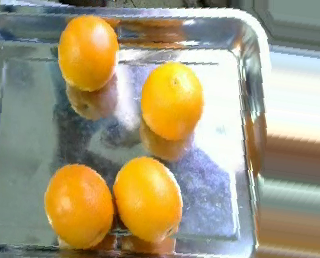Orange: (113, 156, 183, 243), (44, 163, 114, 249), (141, 60, 203, 141), (57, 13, 118, 91)
